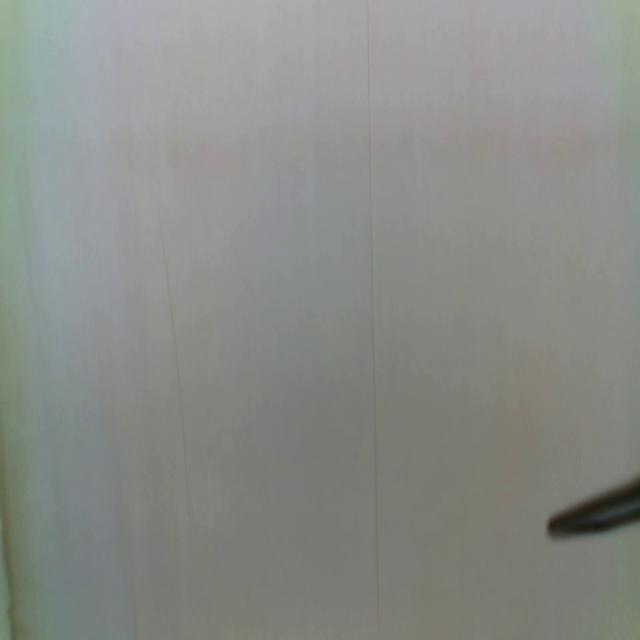crease: (153, 199, 194, 537), (366, 1, 382, 640)
